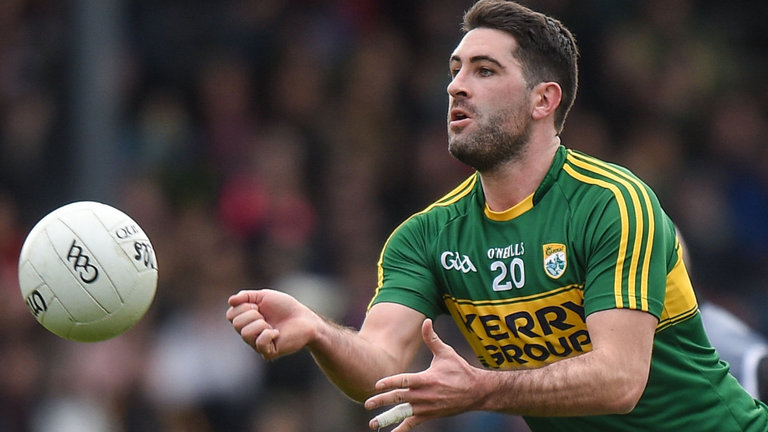ball: (17, 197, 156, 334)
player: (359, 7, 720, 410)
